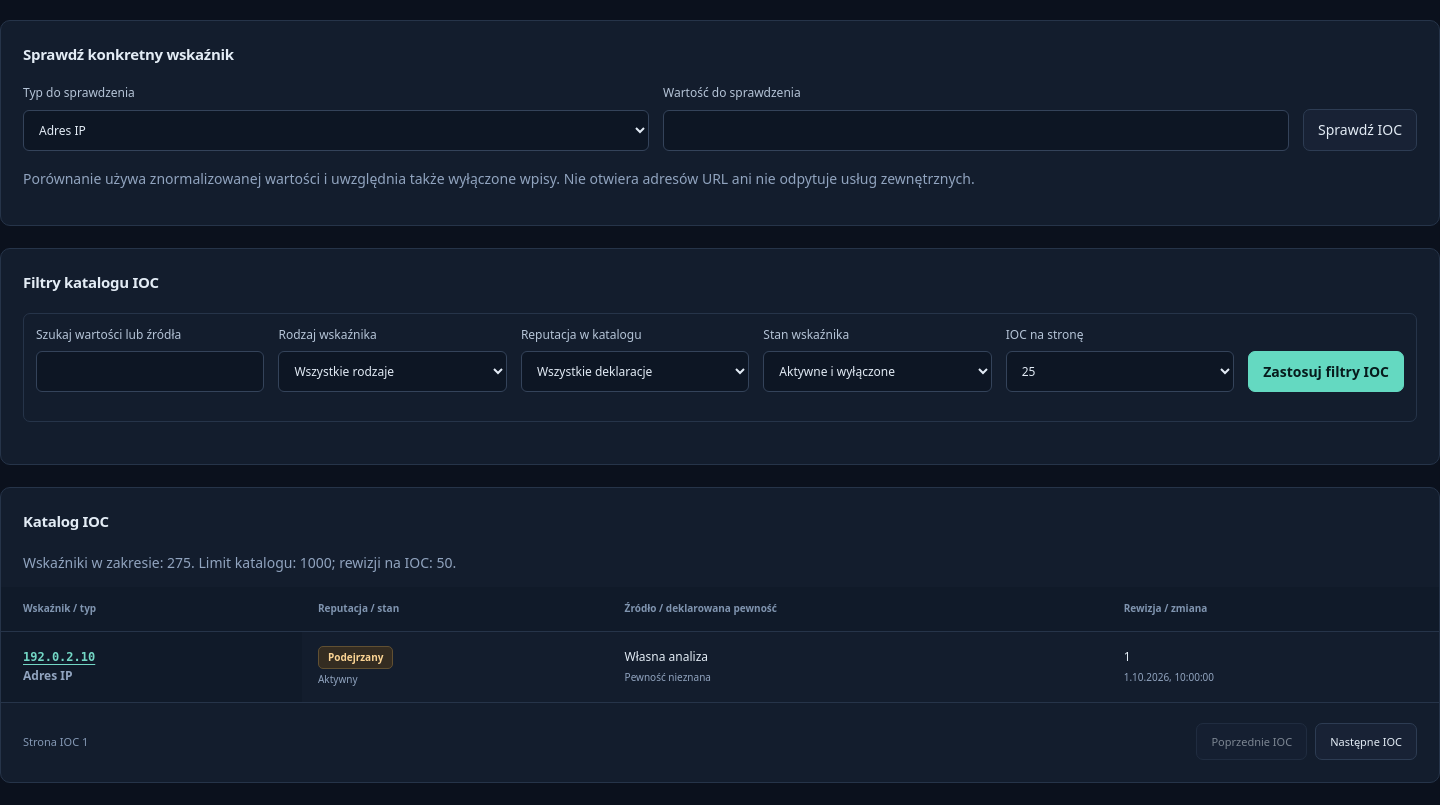
uses a signed cursor and resets pagination when the catalogue filters change
(page scrolled)
Expected: the table named "Wskaźniki IOC" is shown, x1=1 y1=587 x2=1439 y2=703
Click the button "Następne IOC": (1366,741) x1=1315 y1=723 x2=1417 y2=760
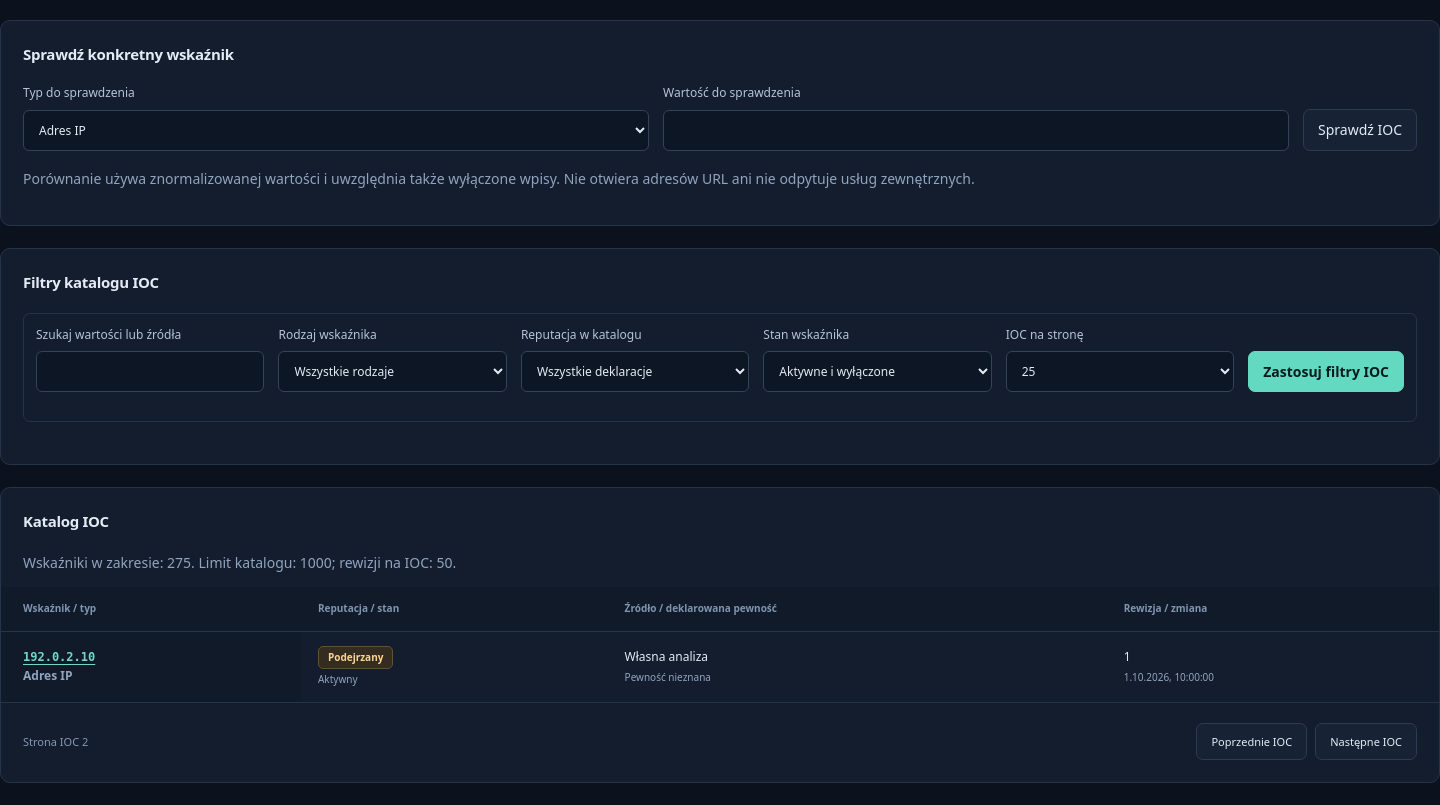
Now the text "Strona IOC 2" is shown, box x1=23 y1=733 x2=88 y2=750
Select "Aktywne" in the dropdown labelled "Stan wskaźnika": (878,372) x1=763 y1=351 x2=992 y2=392
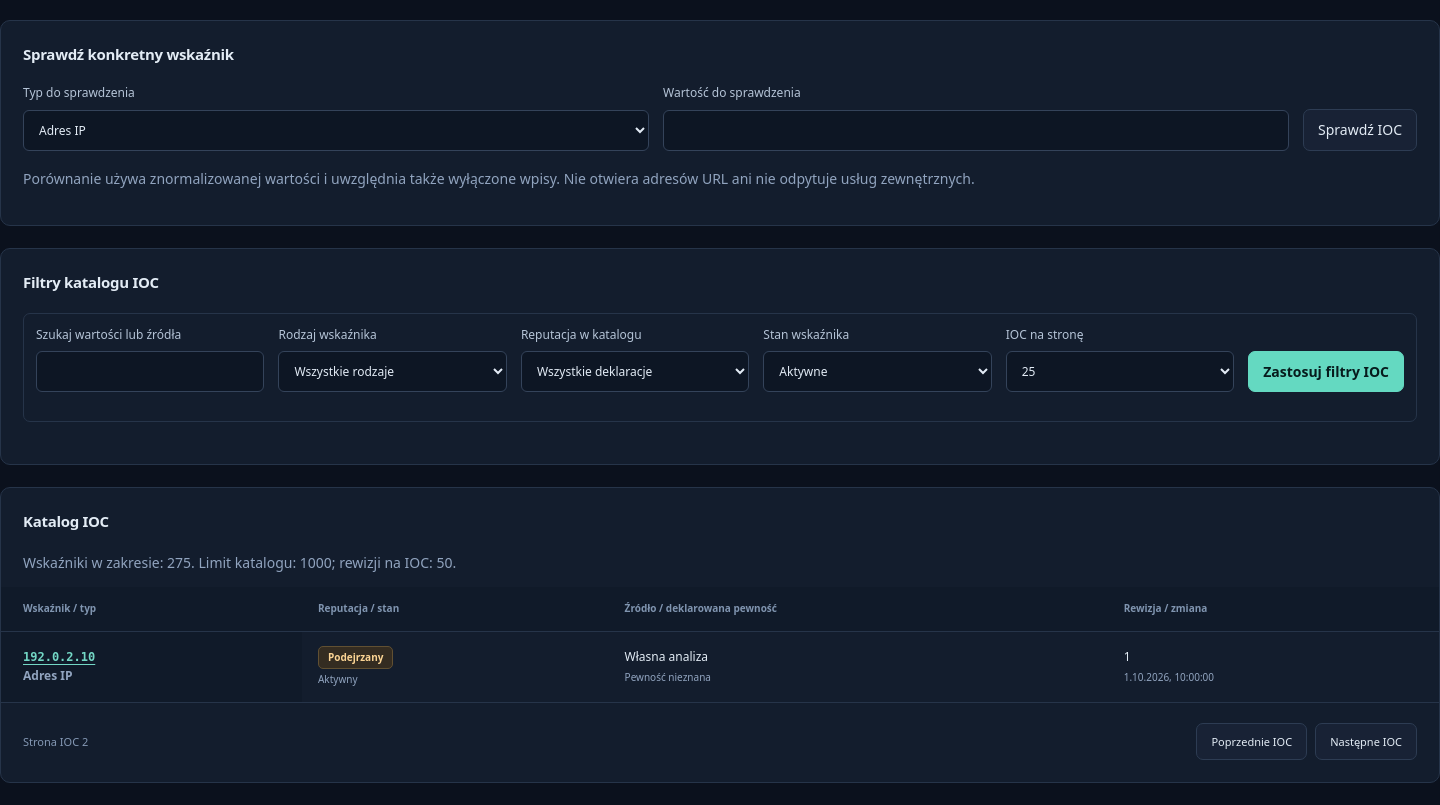
Click the button "Zastosuj filtry IOC": (1326,371) x1=1248 y1=351 x2=1404 y2=392
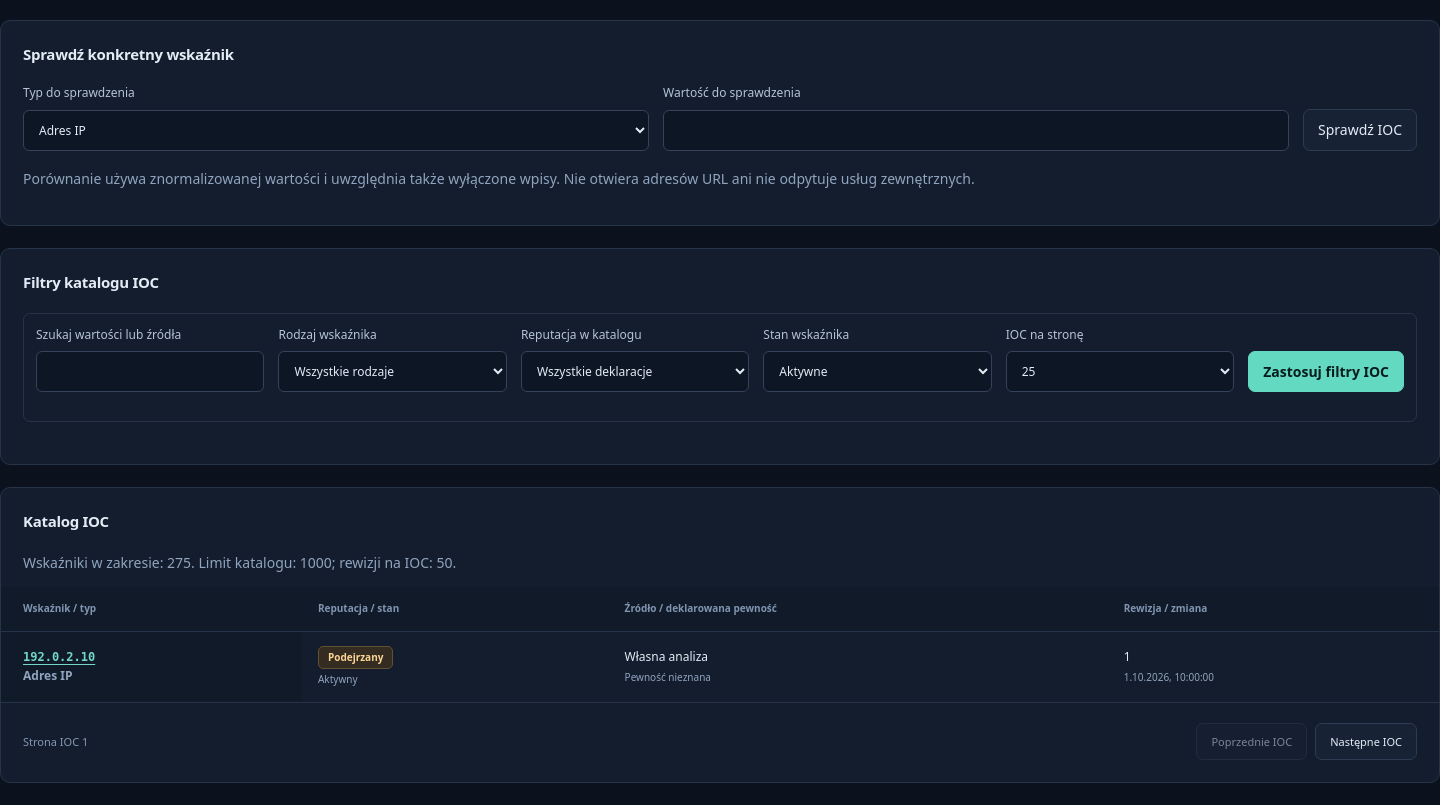
Now the text "Strona IOC 1" is shown, box x1=23 y1=733 x2=88 y2=750
